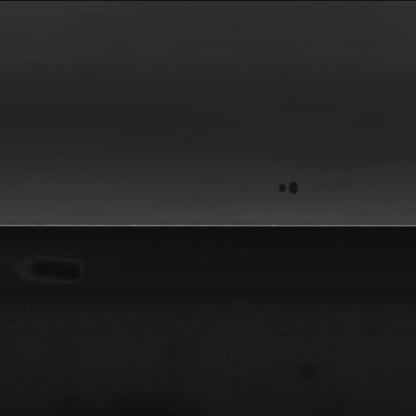oil_spot: (274, 172, 312, 204)
